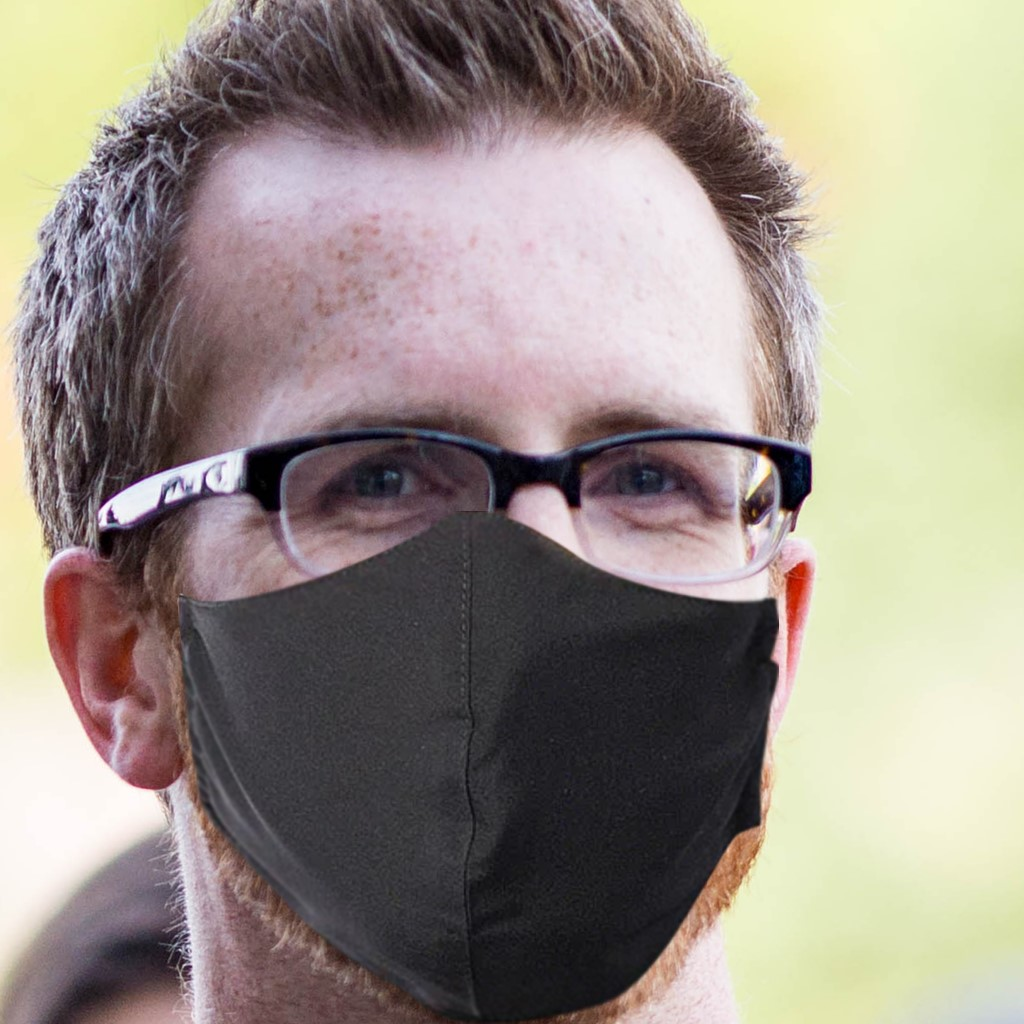con_mascara: (128, 88, 792, 1004)
